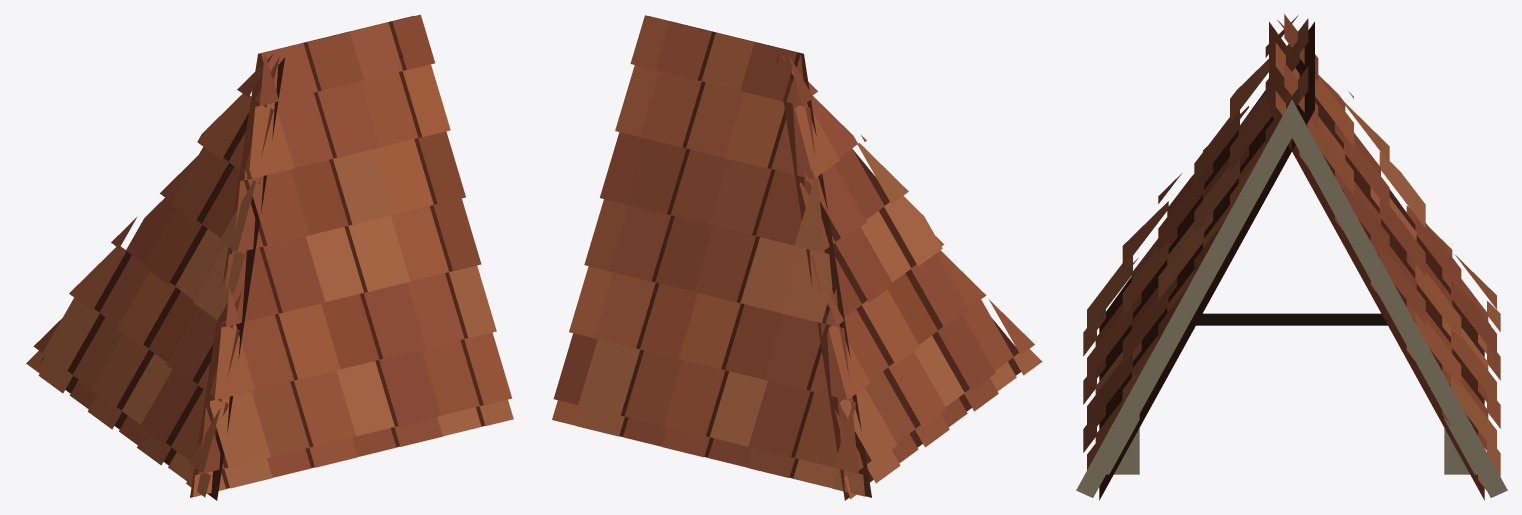
File: roof-high-gable-end-tile.glb
The picture shows the model from 3 angles, left to right: view 1: azimuth 30°, elevation 25°; view 2: azimuth 150°, elevation 25°; view 3: azimuth 270°, elevation 25°; orthographic projection. The views are drawn at different scales.
Parts seen in each view (by area): view 1: roof-high-gable-end-tile; view 2: roof-high-gable-end-tile; view 3: roof-high-gable-end-tile.
Part boxes in pixels (left/top/right/bottom): roof-high-gable-end-tile: left=26, top=14, right=513, bottom=500; roof-high-gable-end-tile: left=552, top=15, right=1042, bottom=500; roof-high-gable-end-tile: left=1076, top=14, right=1507, bottom=500.
Size of the model in its own units: 1.12 by 1.16 by 1.13.
